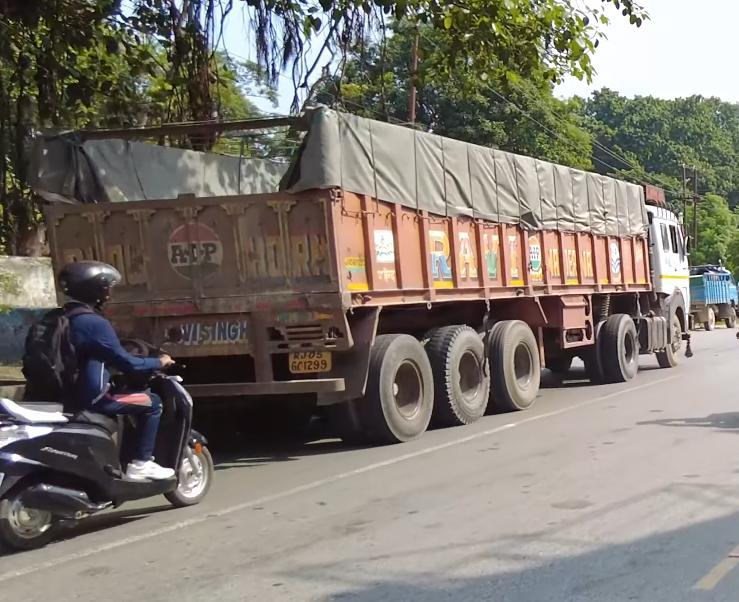mini_truck: (683, 258, 739, 332)
scooter: (0, 334, 216, 548)
truck: (24, 104, 693, 444)
